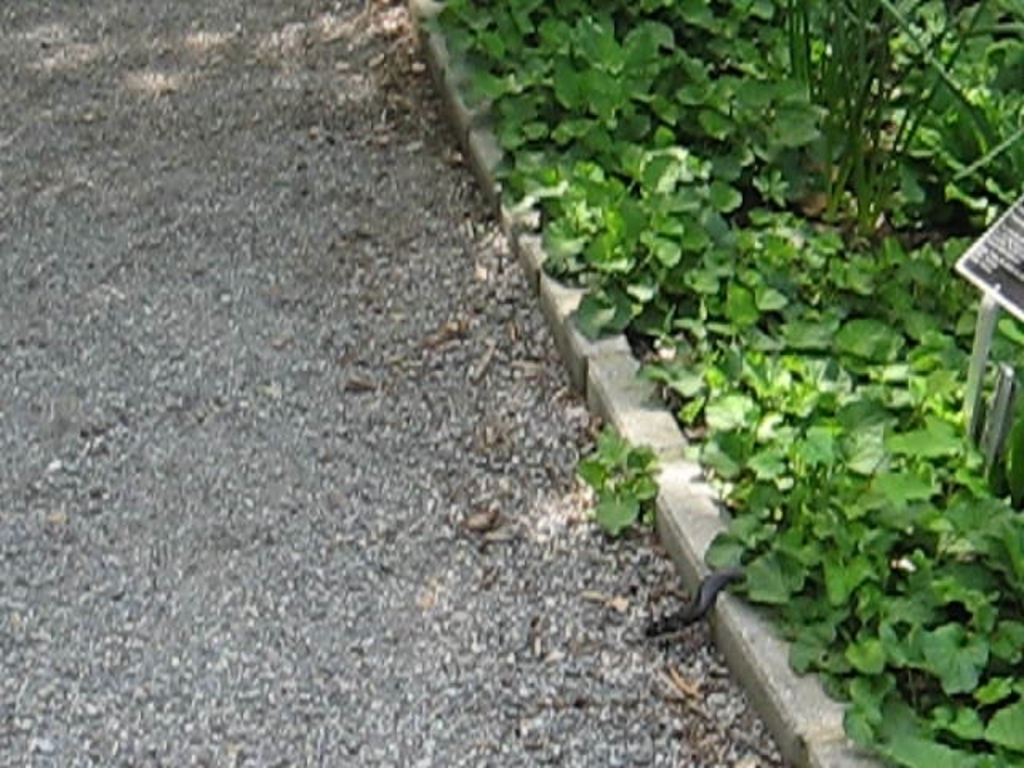Animal: (643, 567, 747, 634)
